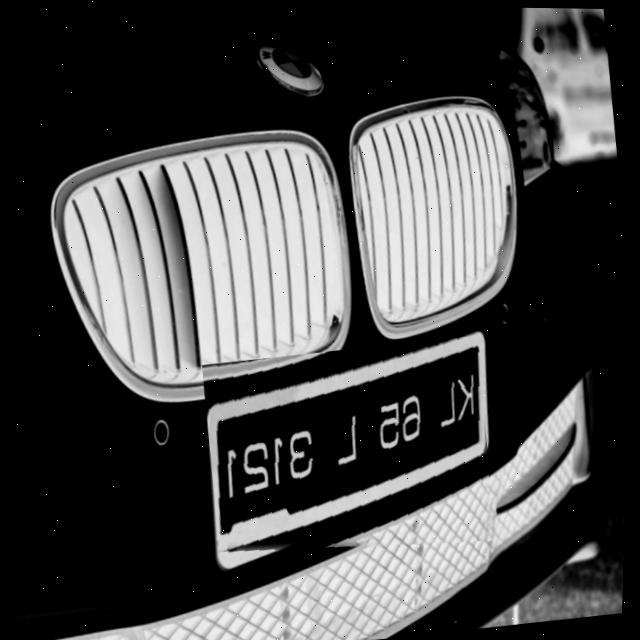Non_registered: (199, 330, 507, 571)
